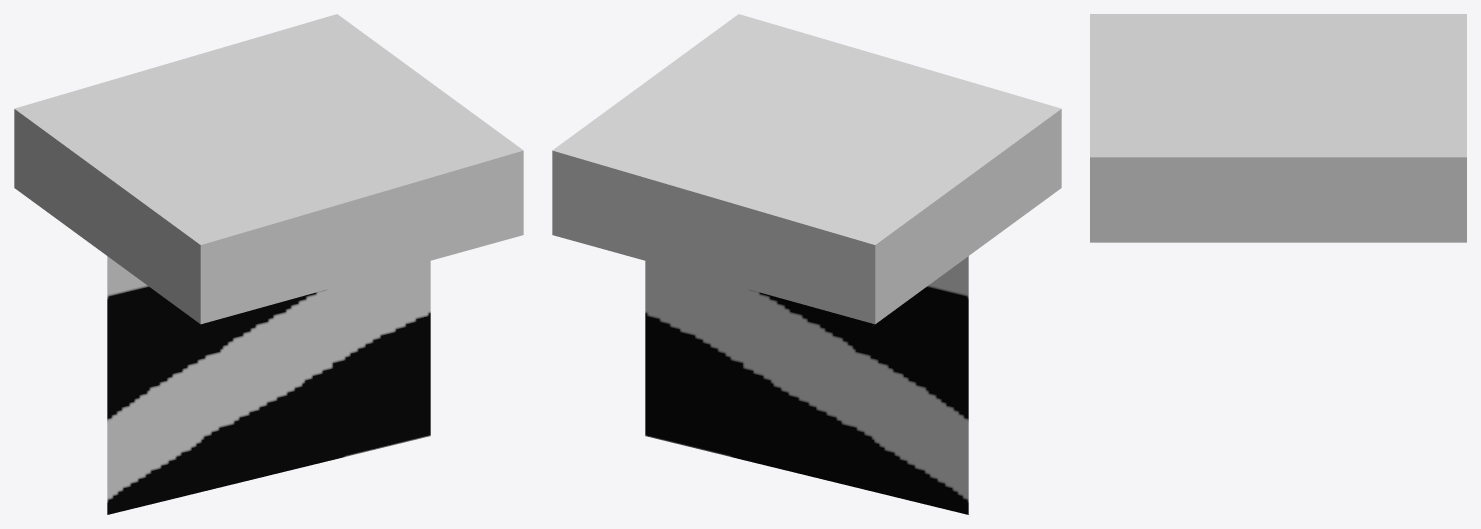
Rendered from dc_metro_roof_e2b.obj.
3 renders of one model, left to right at view 1: azimuth 30°, elevation 25°; view 2: azimuth 150°, elevation 25°; view 3: azimuth 270°, elevation 25°, orthographic.
Visible parts, largest first — view 1: part2b; view 2: part2b; view 3: part2b.
Boxes of the visible parts, box(x1,y1,x2,y2) form: part2b: box(14, 14, 523, 514); part2b: box(552, 14, 1061, 514); part2b: box(1090, 14, 1466, 242).
Bounding box in the file's own units: 1 × 1.05 × 1.
Materials: 2 (2 with a texture image).
